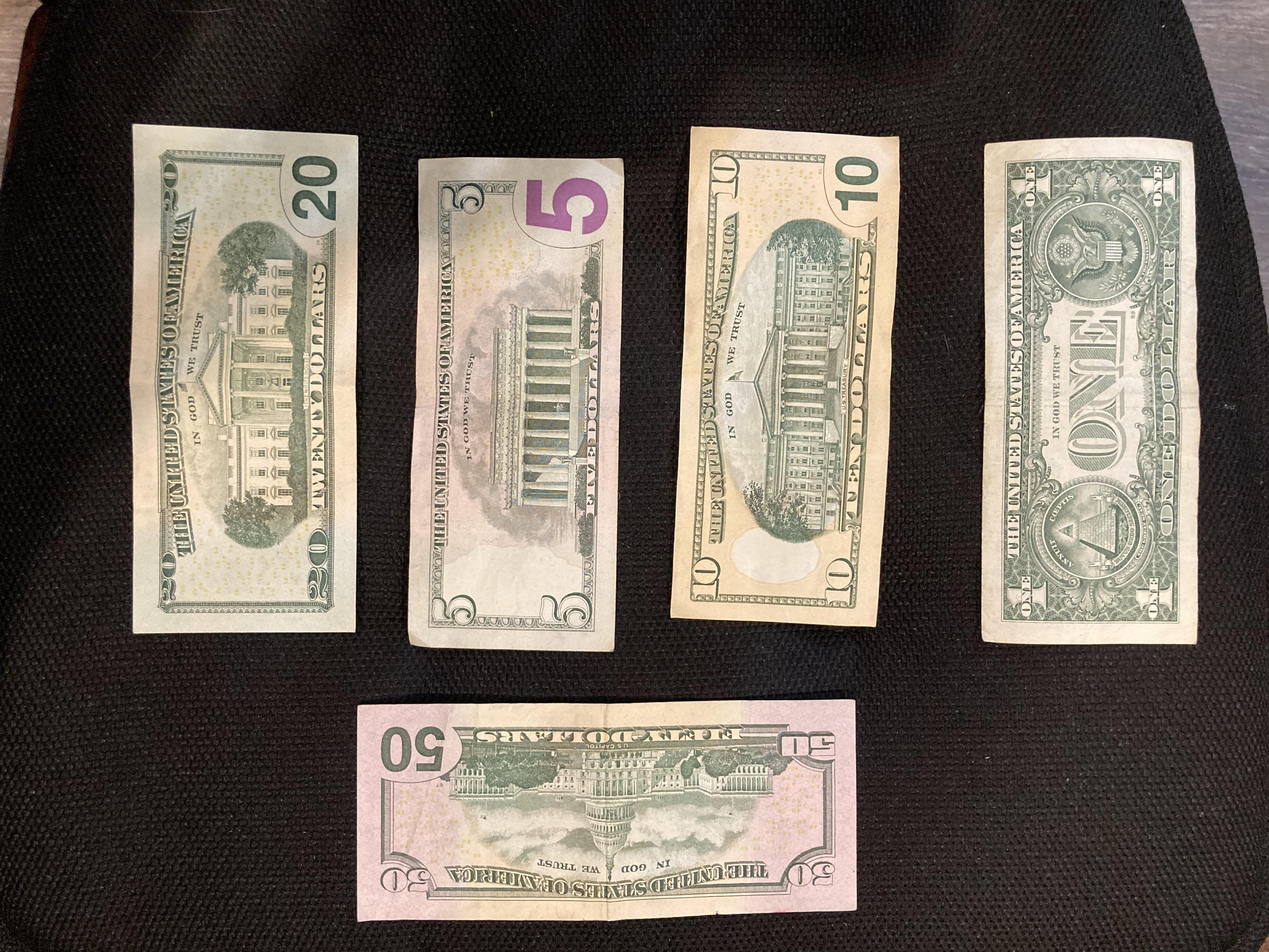fifty-back: (354, 698, 859, 923)
five-back: (406, 156, 627, 654)
one-back: (979, 137, 1201, 645)
ten-back: (666, 126, 905, 629)
twenty-back: (131, 124, 361, 634)
